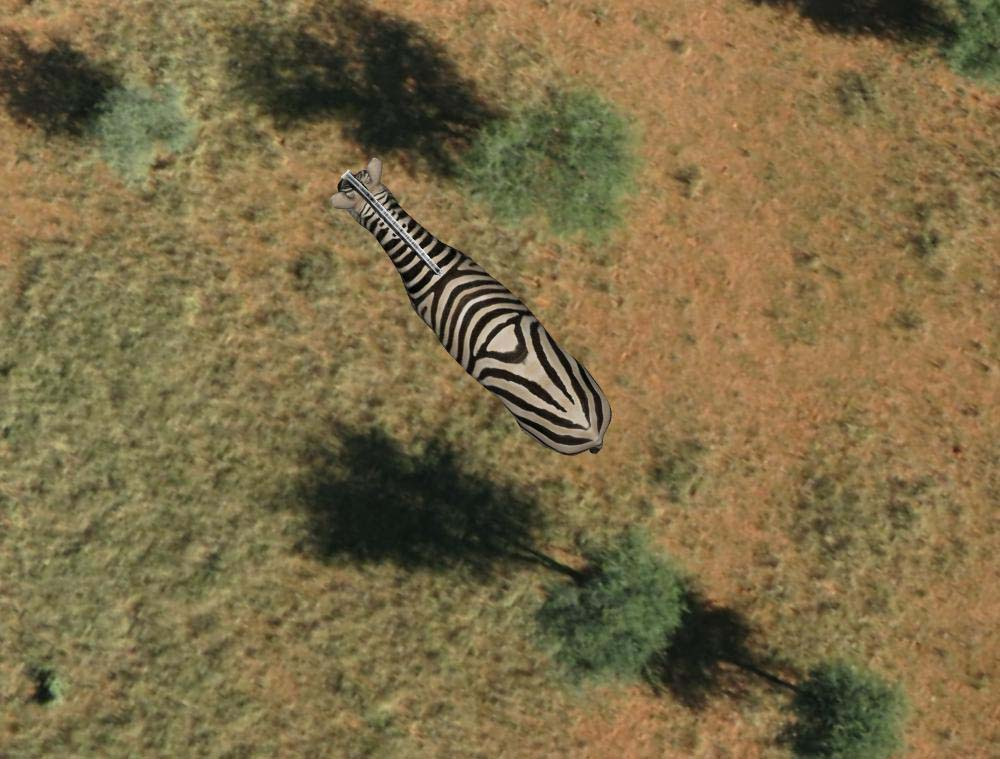zebra: (328, 154, 617, 459)
